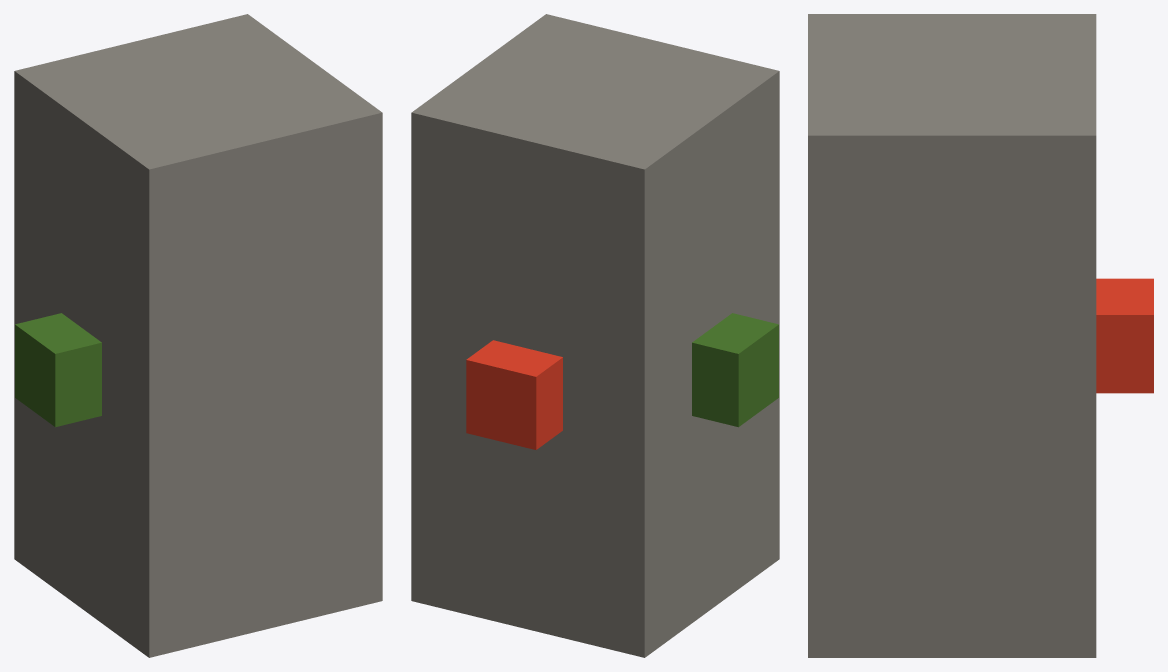
Rendered from SM_RoundTripBox.fbx.
3 renders of one model, left to right at view 1: azimuth 30°, elevation 25°; view 2: azimuth 150°, elevation 25°; view 3: azimuth 270°, elevation 25°, orthographic. The views are drawn at different scales.
Visible parts, largest first — view 1: SM_RoundTripBox, Marker_Left; view 2: SM_RoundTripBox, Marker_Front, Marker_Left; view 3: SM_RoundTripBox, Marker_Front.
Boxes of the visible parts, <box> form: SM_RoundTripBox: <box>14,14,382,657</box>; Marker_Left: <box>15,313,101,427</box>; SM_RoundTripBox: <box>411,14,779,657</box>; Marker_Front: <box>466,340,562,449</box>; Marker_Left: <box>692,313,778,427</box>; SM_RoundTripBox: <box>808,14,1096,657</box>; Marker_Front: <box>1096,278,1153,393</box>.
Size of the model in its own units: 1.2 by 1.2 by 2.
